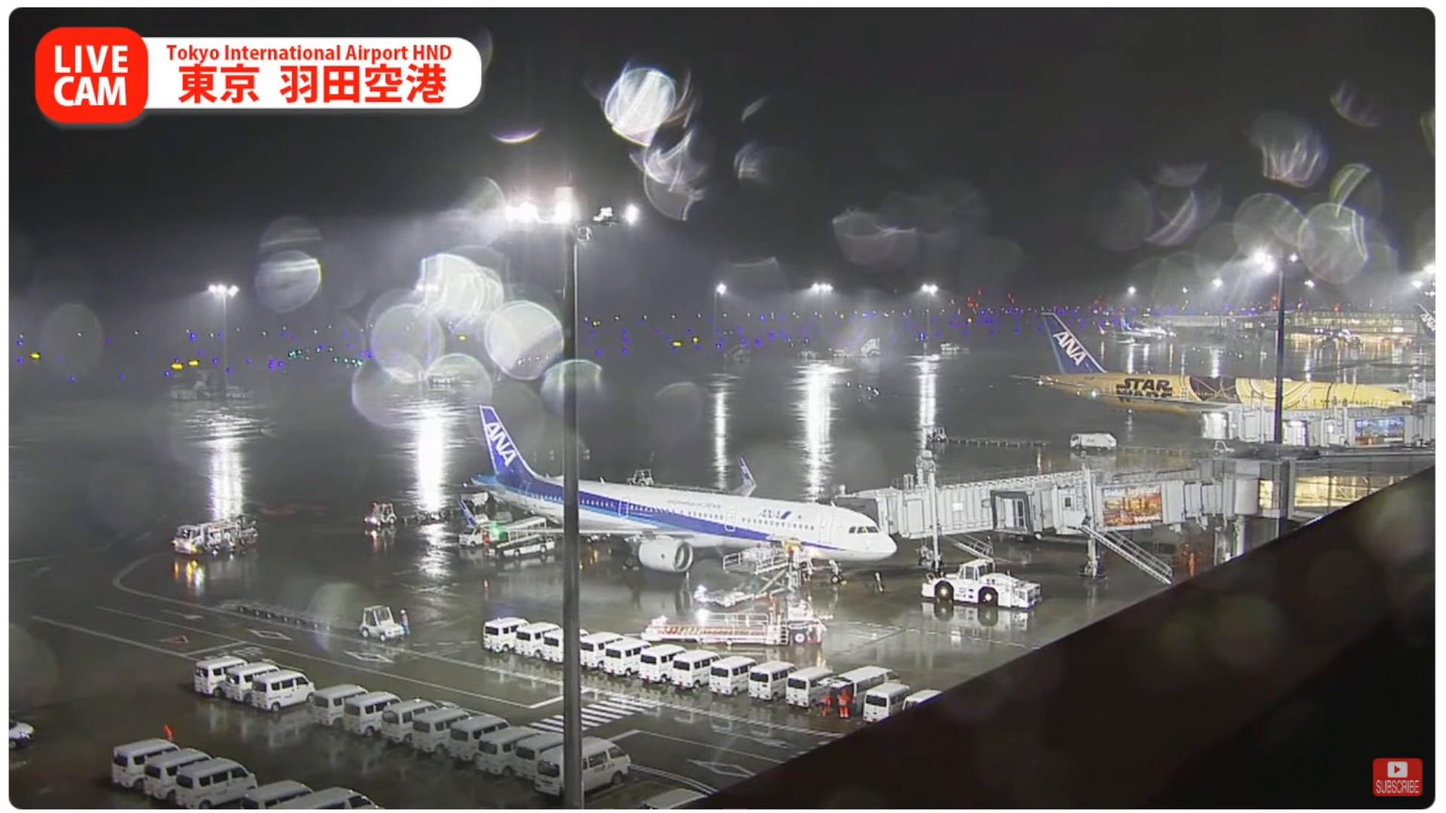APS: (920, 557, 1042, 611)
Aerobridge: (837, 461, 1193, 540), (988, 473, 1227, 539)
Airplane: (456, 406, 894, 586)
Dolly: (234, 602, 359, 636), (402, 499, 477, 526)
JCPL: (692, 533, 821, 610), (639, 595, 831, 645)
Skyloader: (483, 513, 557, 558)
Tractor: (358, 604, 405, 643), (361, 500, 398, 527)
Window: (1289, 476, 1414, 509)
